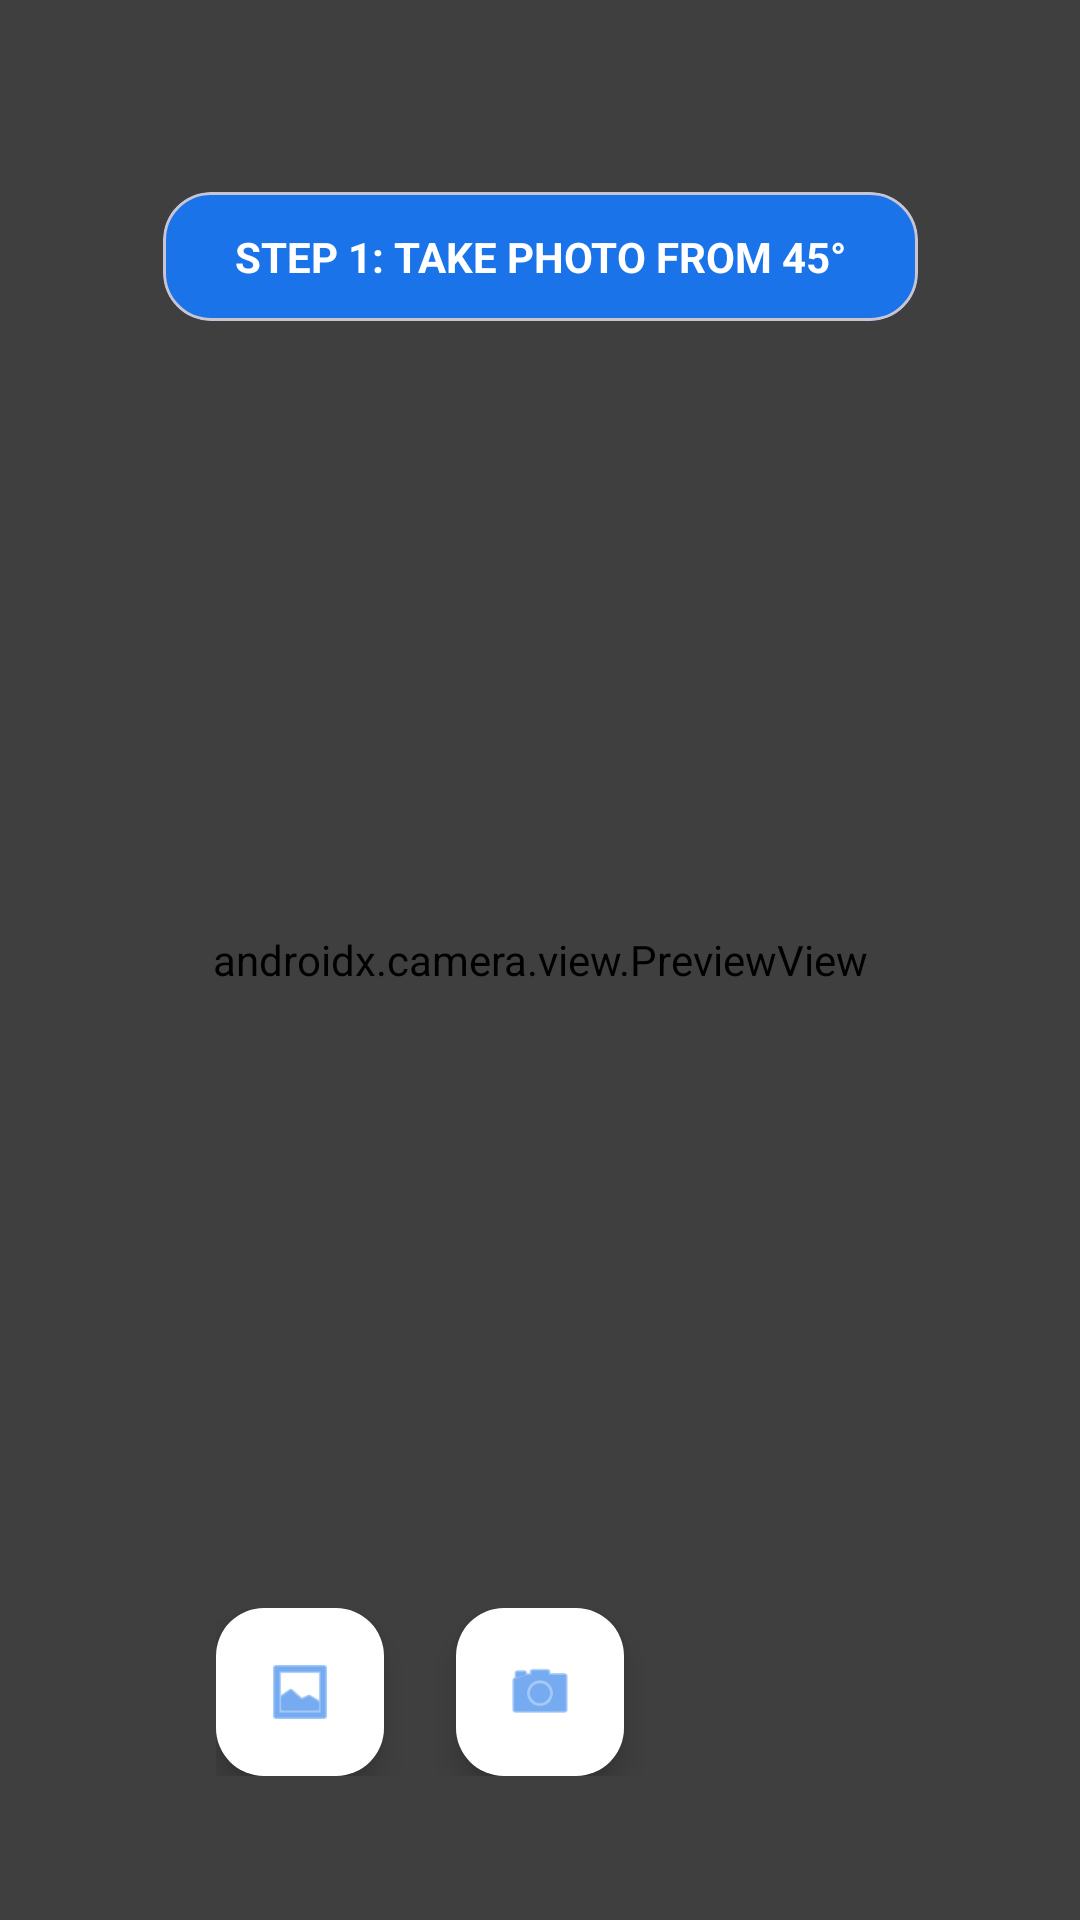

Screen size 1080w x 1920h. Icon name, then its box in pixels as (x1, y1, x2, y2):
Open Gallery: (216, 1608, 384, 1776)
Take Photo: (456, 1608, 624, 1776)
